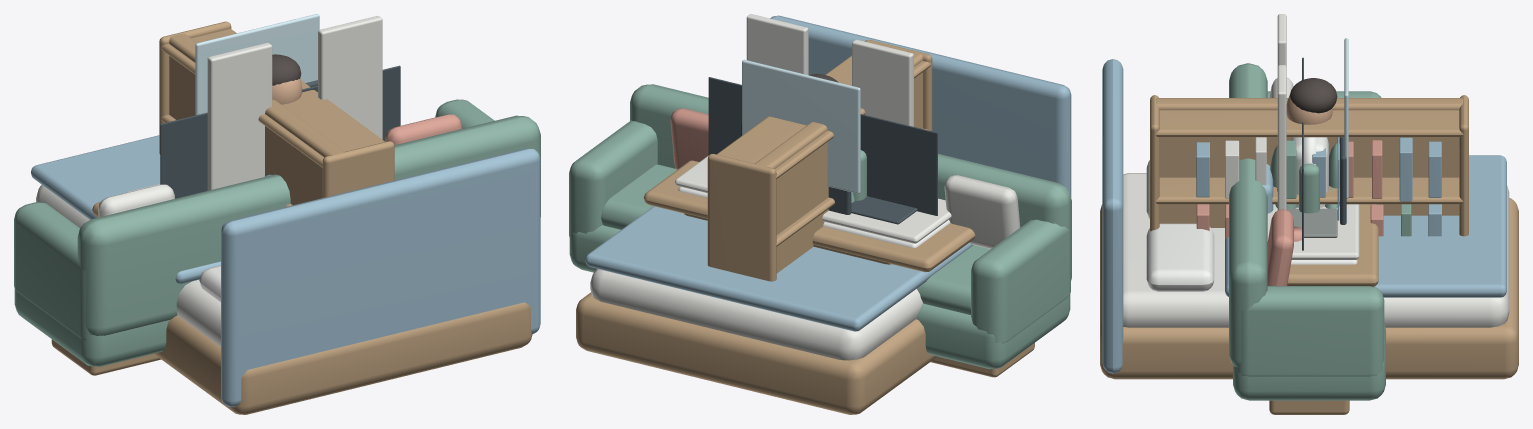
File: furniture-kit.glb
3 renders of one model, left to right at view 1: azimuth 30°, elevation 25°; view 2: azimuth 150°, elevation 25°; view 3: azimuth 270°, elevation 25°, orthographic. The views are drawn at different scales.
Parts seen in each view (by area): view 1: bed_headboard, sofa_back, bed_frame, living_curtain_left, sofa_arm, bed_cover, living_curtain_right, bookcase_back, living_tv_screen, vanity_mirror, bookcase_shelf.003, sofa_base (+10 smaller); view 2: bed_frame, bed_cover, bed_headboard, bed_mattress, sofa_arm, living_tv_screen, vanity_mirror, bookcase_side, sofa_back, sofa_base, bookcase_back, sofa_arm.001 (+15 smaller); view 3: bed_frame, sofa_arm.001, bed_cover, bed_mattress, bookcase_back, bookcase_shelf.003, sofa_back, bed_headboard, bed_pillow.001, bookcase_shelf.002, sofa_base, desk_top (+24 smaller).
Part boxes in pixels (<box>): bed_headboard: <box>221,148,540,407</box>; sofa_back: <box>77,115,540,335</box>; bed_frame: <box>154,302,532,414</box>; living_curtain_left: <box>207,42,272,190</box>; sofa_arm: <box>14,202,93,340</box>; bed_cover: <box>31,135,220,283</box>; living_curtain_right: <box>318,16,382,139</box>; bookcase_back: <box>169,33,344,205</box>; living_tv_screen: <box>160,65,400,198</box>; vanity_mirror: <box>195,14,319,115</box>; bookcase_shelf.003: <box>160,29,384,167</box>; sofa_base: <box>14,289,169,366</box>; bed_frame: <box>576,292,937,414</box>; bed_cover: <box>585,206,973,331</box>; bed_headboard: <box>770,15,1071,197</box>; bed_mattress: <box>590,269,922,360</box>; sofa_arm: <box>971,219,1070,343</box>; living_tv_screen: <box>708,77,937,215</box>; vanity_mirror: <box>742,59,860,193</box>; bookcase_side: <box>707,153,776,281</box>; sofa_back: <box>630,84,1071,280</box>; sofa_base: <box>569,225,1070,369</box>; bookcase_back: <box>755,51,922,273</box>; sofa_arm.001: <box>569,120,657,238</box>; bed_frame: <box>1100,198,1518,379</box>; sofa_arm.001: <box>1236,286,1384,376</box>; bed_cover: <box>1225,155,1506,297</box>; bed_mattress: <box>1123,173,1509,327</box>; bookcase_back: <box>1156,98,1462,227</box>; bookcase_shelf.003: <box>1155,110,1463,137</box>; sofa_back: <box>1229,63,1267,367</box>; bed_headboard: <box>1102,59,1123,373</box>; bed_pillow.001: <box>1146,223,1214,291</box>; bookcase_shelf.002: <box>1156,177,1462,204</box>; sofa_base: <box>1233,324,1385,400</box>; desk_top: <box>1287,204,1378,286</box>.
Bounding box in the file's own units: 3.11 × 1.88 × 2.6.
